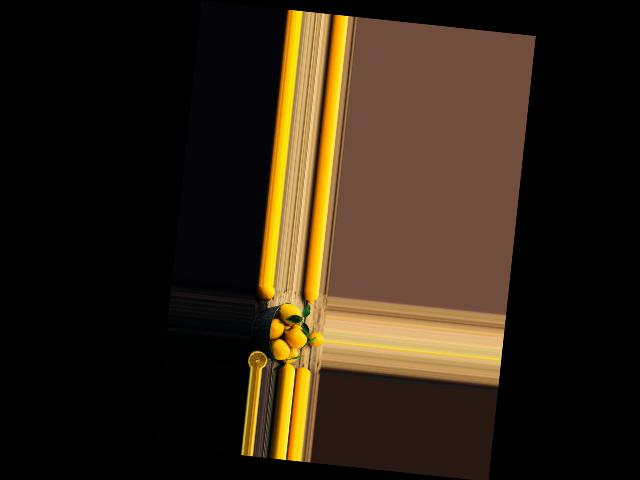lemon: (263, 335, 291, 361)
